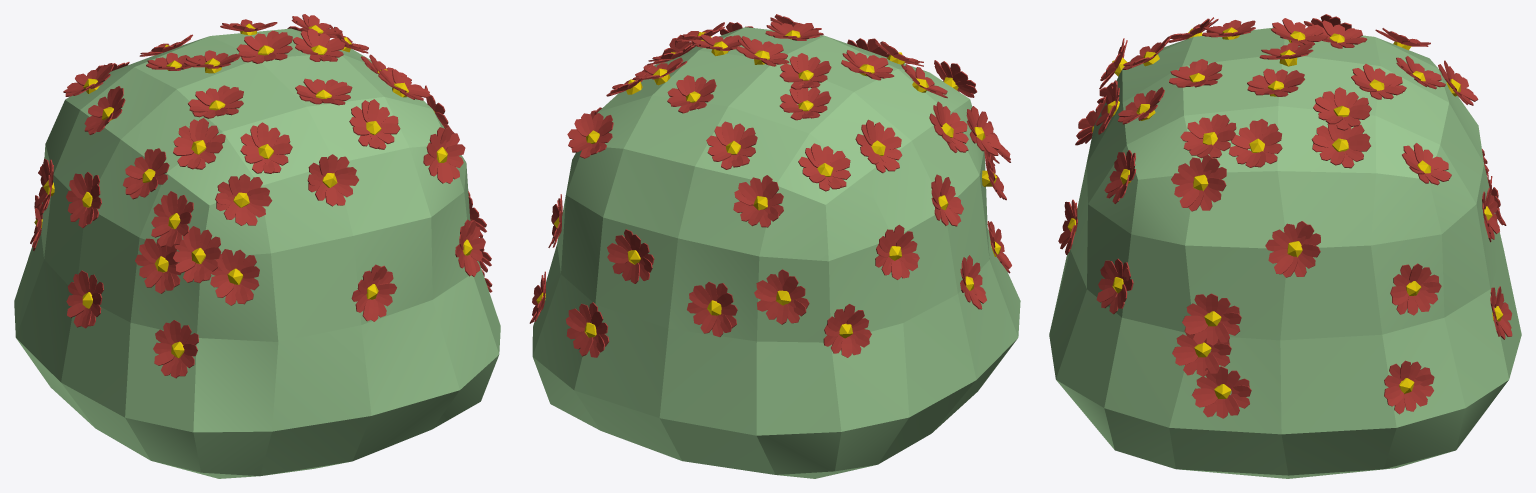
File: FlowerBushBig.fbx
The picture shows the model from 3 angles, left to right: view 1: azimuth 30°, elevation 25°; view 2: azimuth 150°, elevation 25°; view 3: azimuth 270°, elevation 25°; orthographic projection. The views are drawn at different scales.
Parts seen in each view (by area): view 1: FloweryBushRed2; view 2: FloweryBushRed2; view 3: FloweryBushRed2.
Part boxes in pixels (left/top/right/bottom): FloweryBushRed2: left=14, top=14, right=500, bottom=478; FloweryBushRed2: left=529, top=14, right=1020, bottom=478; FloweryBushRed2: left=1049, top=14, right=1521, bottom=478.
Bounding box in the file's own units: 1.09 × 1.04 × 1.1.
